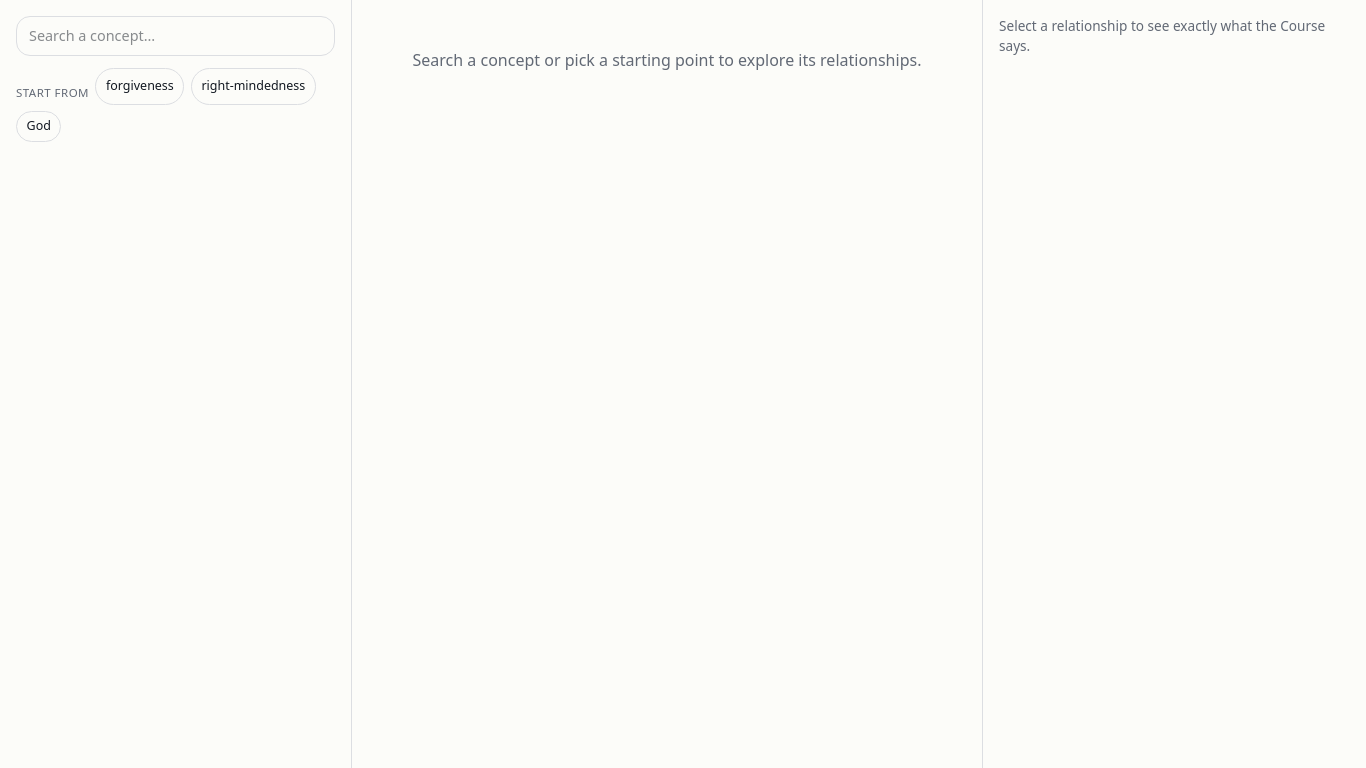
Test: GraphPage navigation › tells the user when a concept has no match
Expected: the text with test id "graph-no-selection" is shown, 412,49 -> 921,71
Type "zzzznope" into the search field with test id "search-input" at (176, 36), box 16,16 -> 335,56
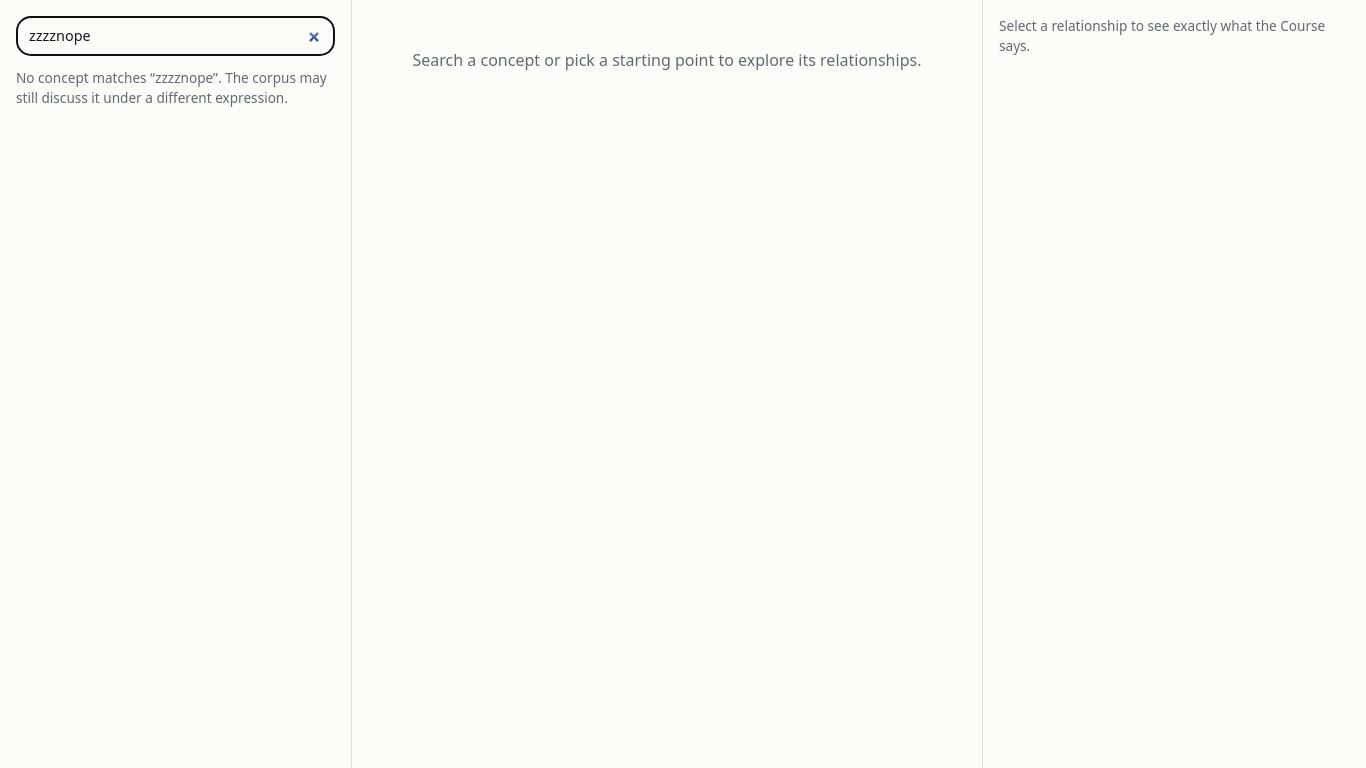
Now the text with test id "search-empty" shows "No concept matches", box 16,68 -> 155,87
